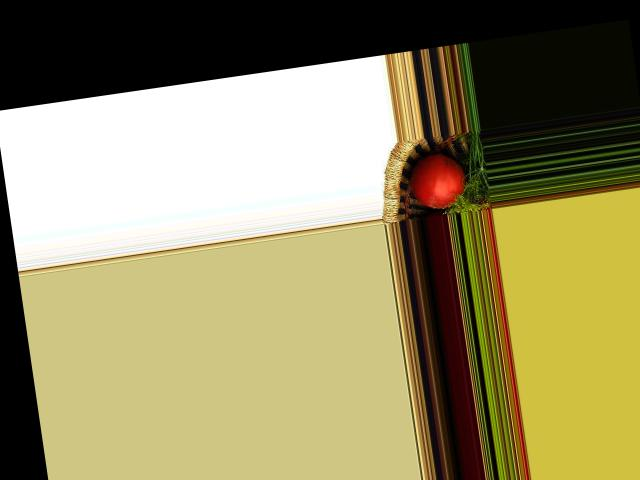tomato: (407, 150, 470, 212)
